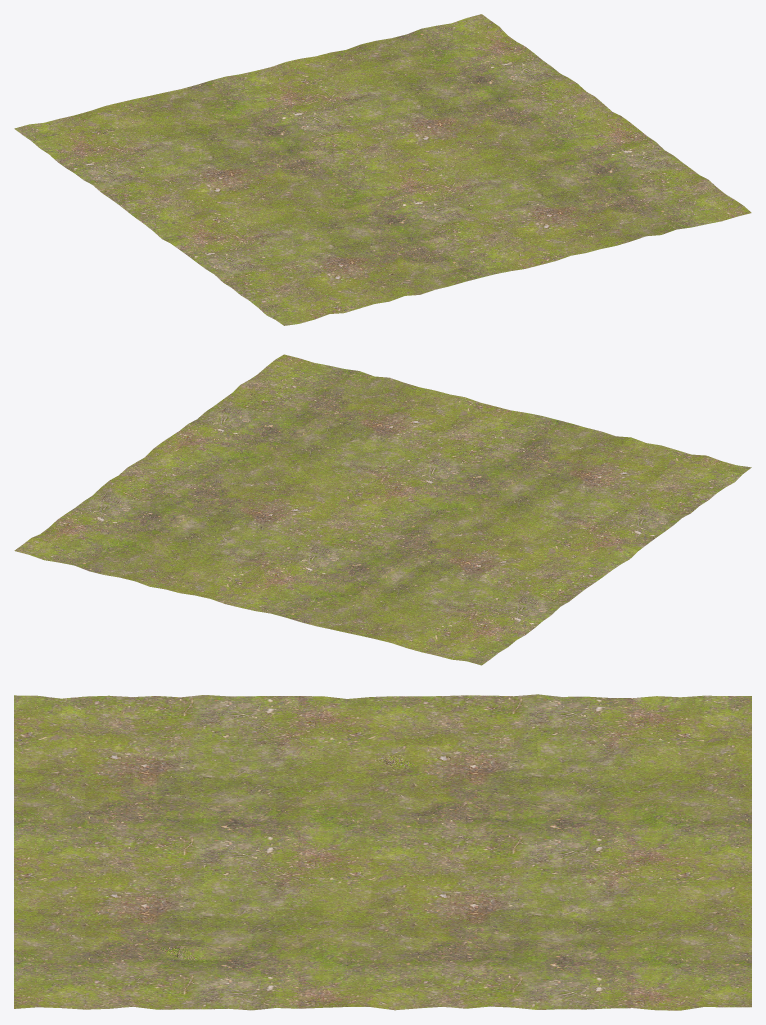
The model's file is WorldFloorFixed.glb.
3 renders of one model, top to bottom at view 1: azimuth 30°, elevation 25°; view 2: azimuth 150°, elevation 25°; view 3: azimuth 270°, elevation 25°, orthographic. The views are drawn at different scales.
Parts seen in each view (by area): view 1: Floor; view 2: Floor; view 3: Floor.
Part boxes in pixels (left/top/right/bottom): Floor: left=14, top=14, right=751, bottom=325; Floor: left=14, top=354, right=751, bottom=665; Floor: left=14, top=694, right=751, bottom=1010.
Bounding box in the file's own units: 50 × 0.4992 × 50.
Materials: 1 (1 with a texture image).
